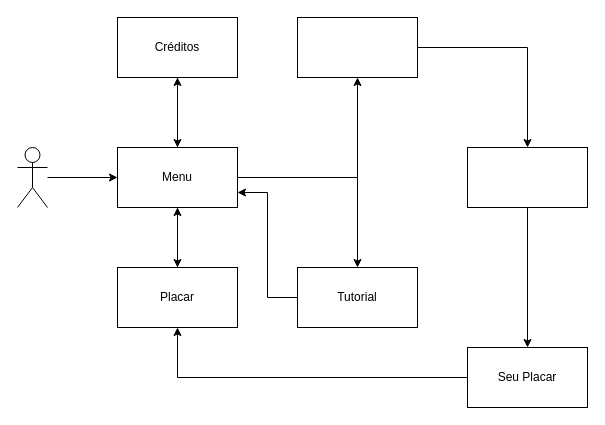
This 605x425 diagram has some shape labels left out. Each missing label, with the box of its shape:
Actor: (16, 146, 48, 208)
Duelo: (466, 146, 588, 208)
Seleção de Personagem: (296, 16, 418, 78)
